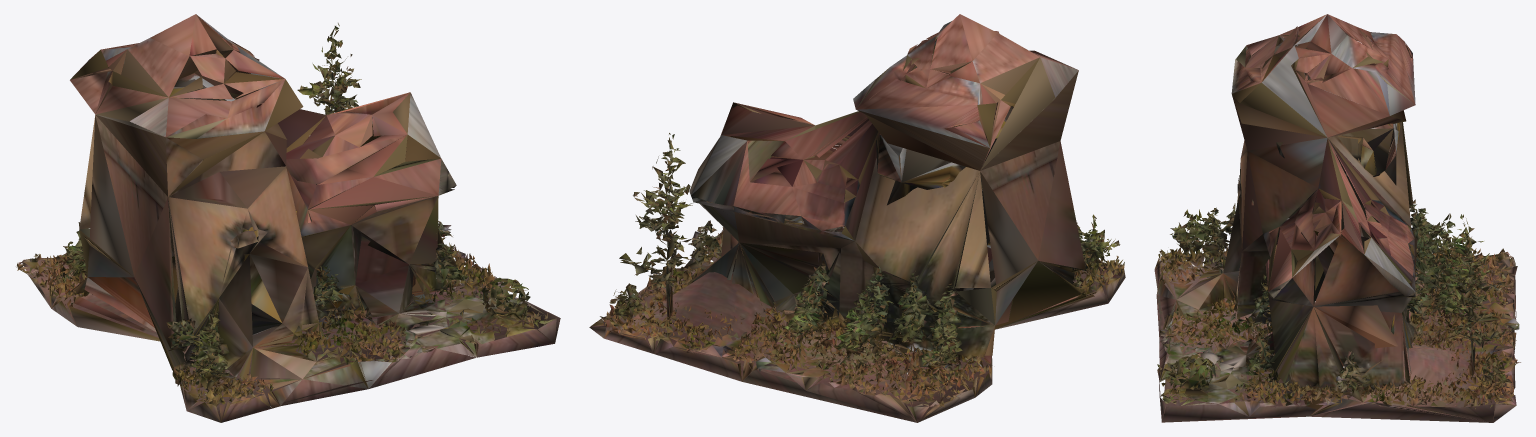
Rendered from Vintage_Stone_Villa_town.glb.
The picture shows the model from 3 angles, left to right: view 1: azimuth 30°, elevation 25°; view 2: azimuth 150°, elevation 25°; view 3: azimuth 270°, elevation 25°; orthographic projection. The views are drawn at different scales.
Parts seen in each view (by area): view 1: Vintage_Stone_Villa; view 2: Vintage_Stone_Villa; view 3: Vintage_Stone_Villa.
Boxes of the visible parts, <box> form: Vintage_Stone_Villa: <box>16,14,560,422</box>; Vintage_Stone_Villa: <box>589,14,1125,422</box>; Vintage_Stone_Villa: <box>1154,14,1520,422</box>.
Bounding box in the file's own units: 1.89 × 1.64 × 1.87.
Materials: 1 (1 with a texture image).
